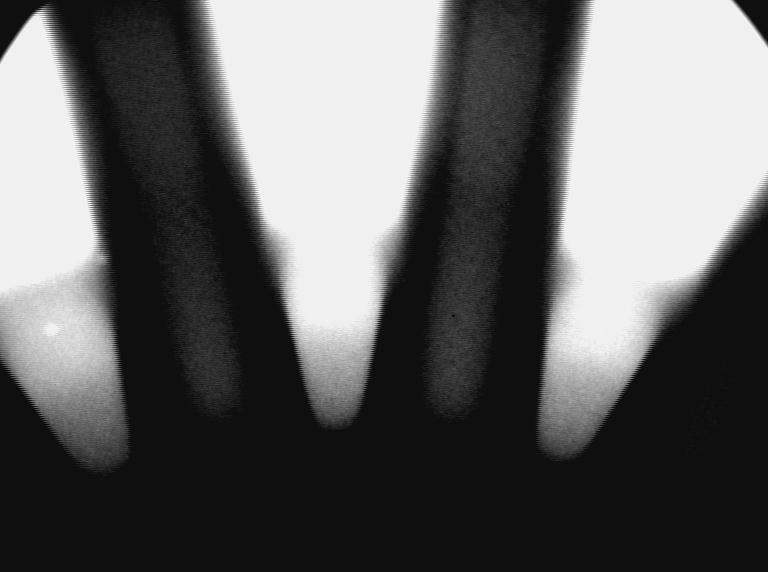defect: (42, 321, 63, 341)
